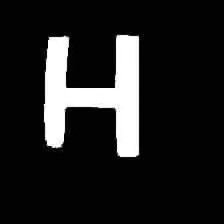LTR_H: (34, 21, 146, 162)
